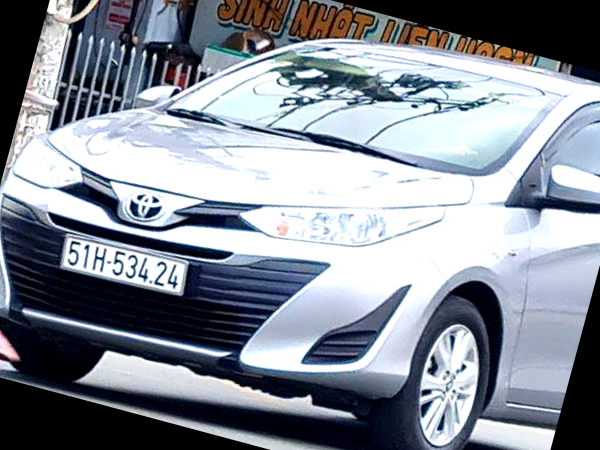lisence: (58, 233, 188, 297)
